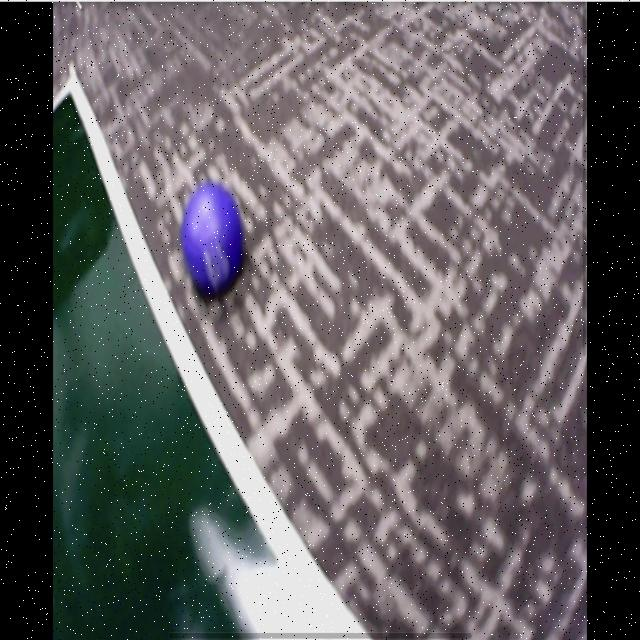ball: (182, 183, 243, 296)
